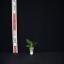leaf: (26, 39, 32, 47), (32, 38, 37, 46), (32, 42, 37, 46), (32, 45, 36, 48), (26, 45, 31, 47), (30, 41, 32, 46)
